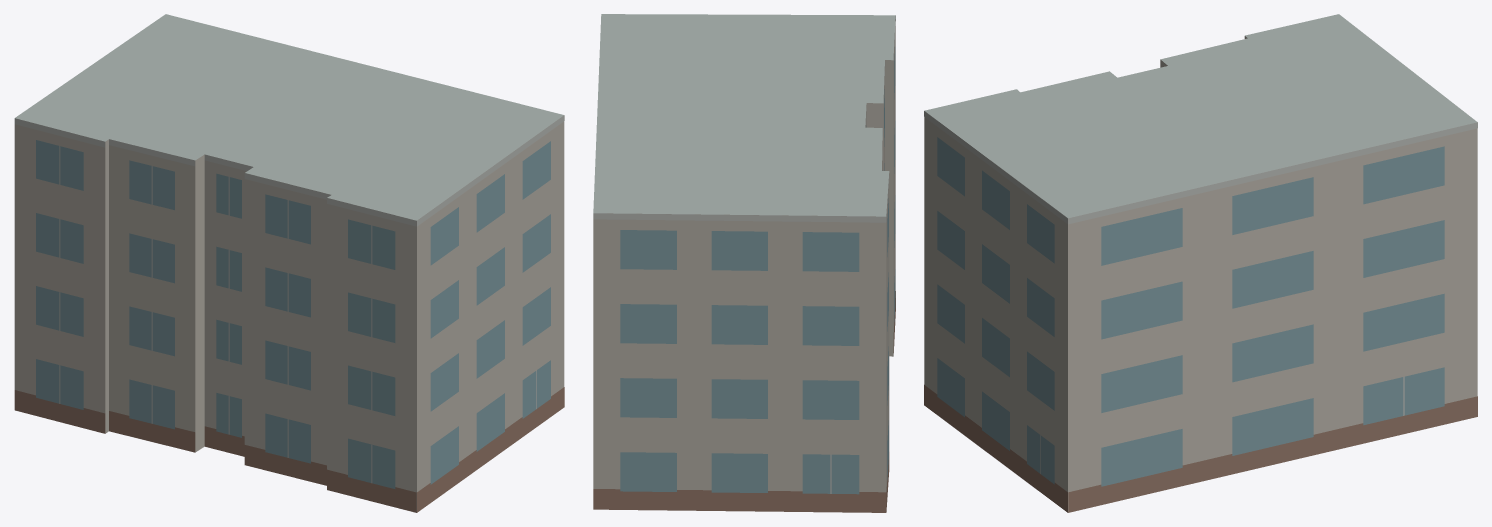
File: survey-upis-32749249.glb
3 views of the same model, side by side, from view 1: azimuth 30°, elevation 25°; view 2: azimuth 150°, elevation 25°; view 3: azimuth 270°, elevation 25° (orthographic).
Visible parts, largest first — view 1: survey-upis-32749249.tmp; view 2: survey-upis-32749249.tmp; view 3: survey-upis-32749249.tmp.
Boxes of the visible parts, x1,y1,x2,y2 form: survey-upis-32749249.tmp: (14,14,564,512); survey-upis-32749249.tmp: (593,14,895,512); survey-upis-32749249.tmp: (924,14,1477,512).
Bounding box in the file's own units: 17.64 × 11.85 × 20.2.
